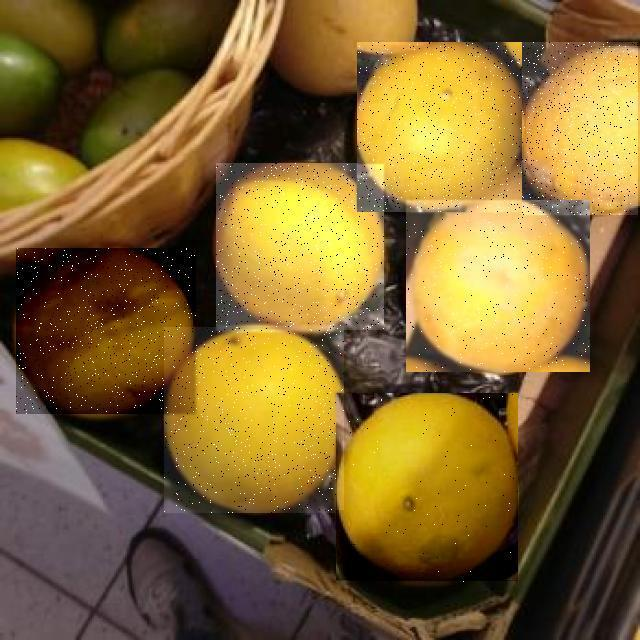Galia: (337, 394, 519, 584), (164, 327, 344, 513), (407, 200, 591, 372), (17, 248, 197, 414), (216, 164, 384, 332), (357, 42, 522, 212), (522, 42, 638, 215)
